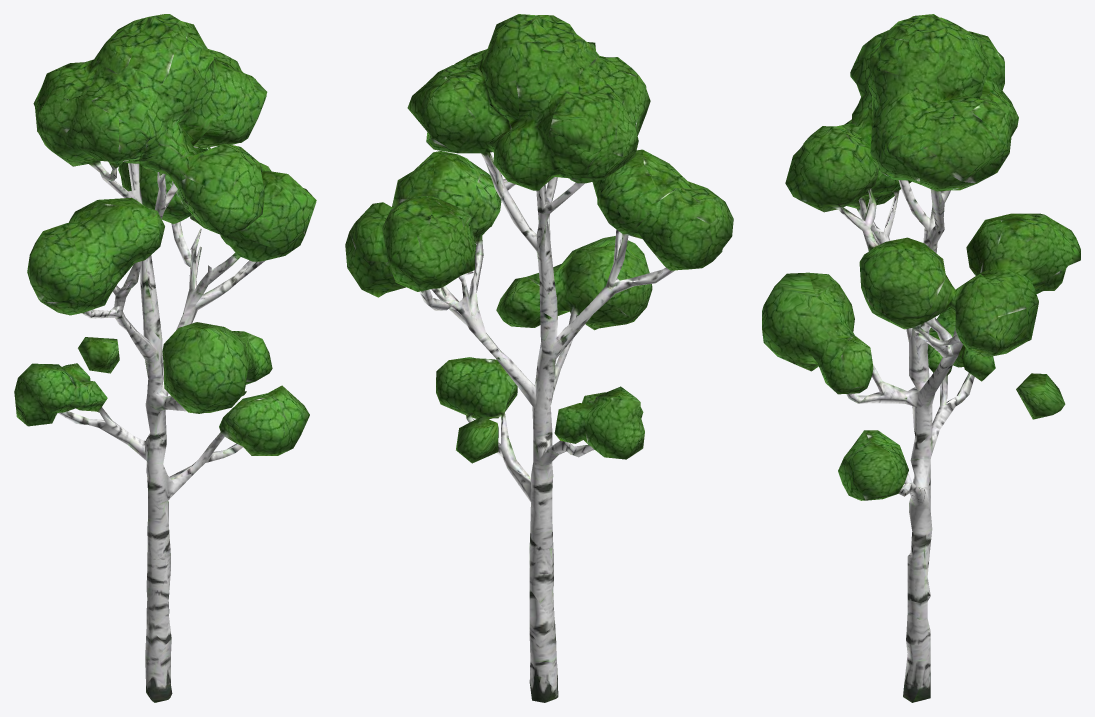
File: birch_b_lo.glb
3 views of the same model, side by side, from view 1: azimuth 30°, elevation 25°; view 2: azimuth 150°, elevation 25°; view 3: azimuth 270°, elevation 25° (orthographic).
Parts seen in each view (by area): view 1: model; view 2: model; view 3: model.
Boxes of the visible parts, <box> form: model: <box>14,14,316,702</box>; model: <box>345,14,733,702</box>; model: <box>762,14,1080,702</box>.
Bounding box in the file's own units: 0.9276 × 1.91 × 0.8063.
1 material, 1 textured.
